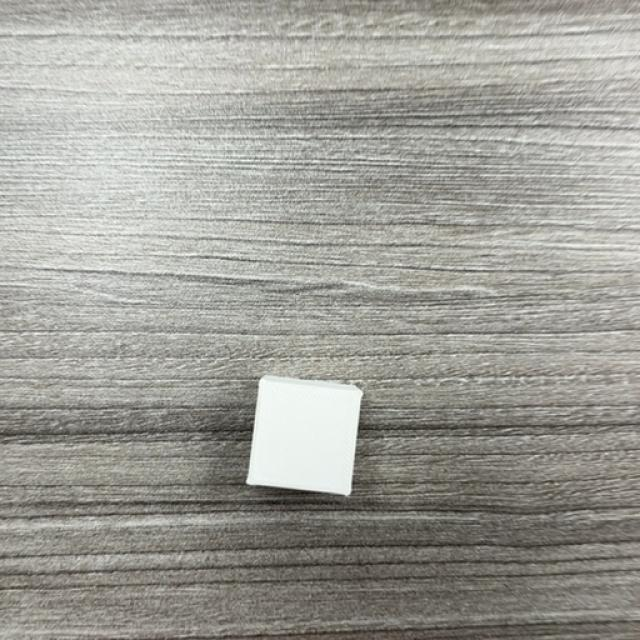Blanco: (246, 376, 364, 499)
